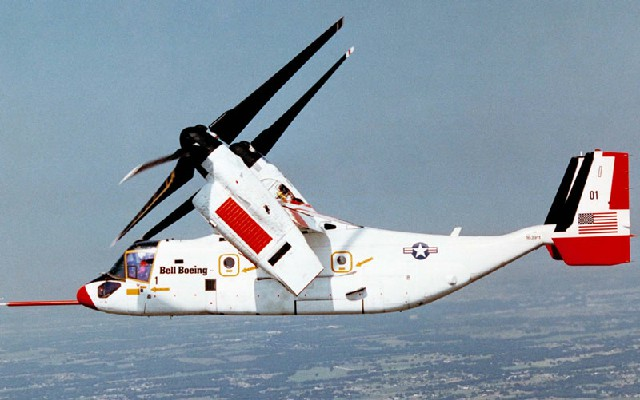maybay_khongnguoilai: (22, 53, 633, 326)
